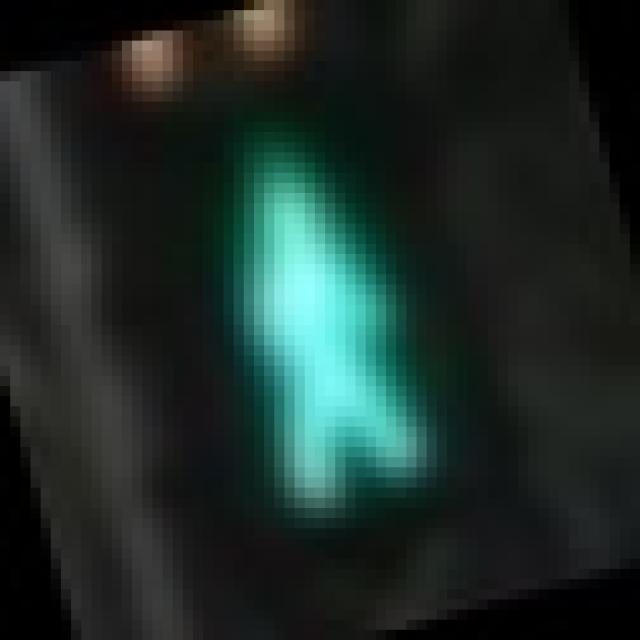green_light: (122, 61, 488, 549)
